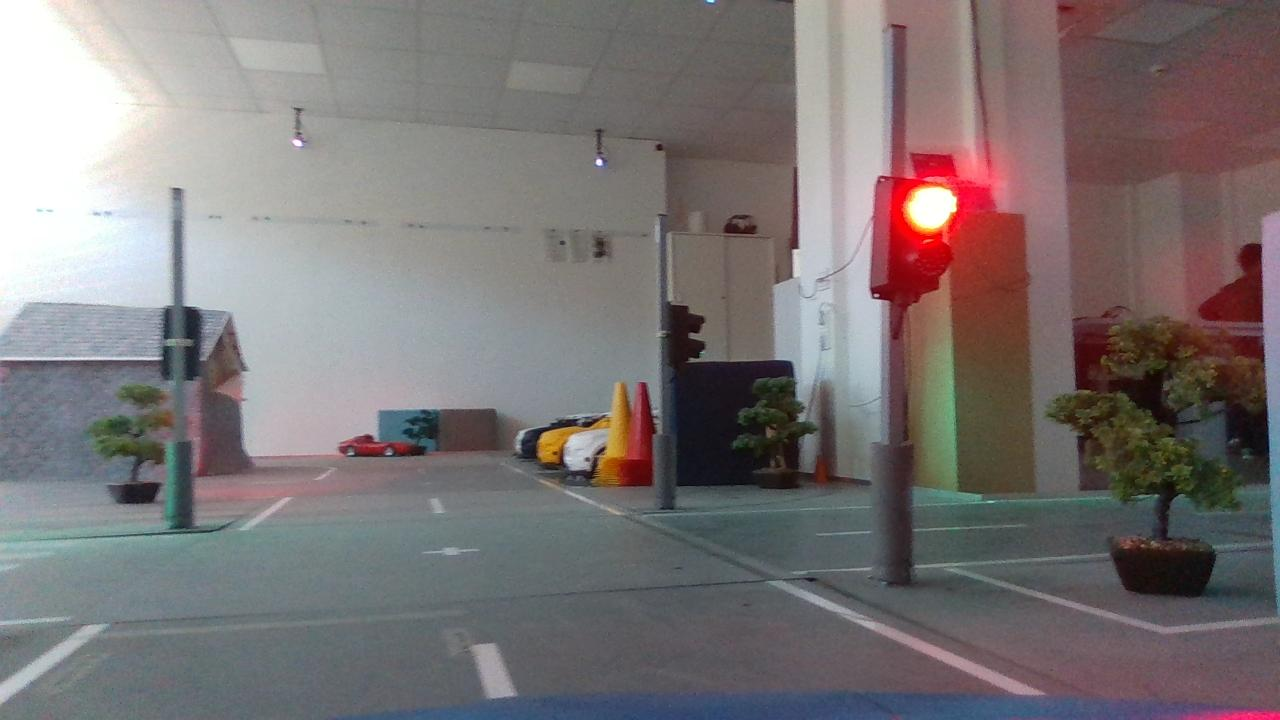traffic_light_red: (848, 158, 976, 330)
